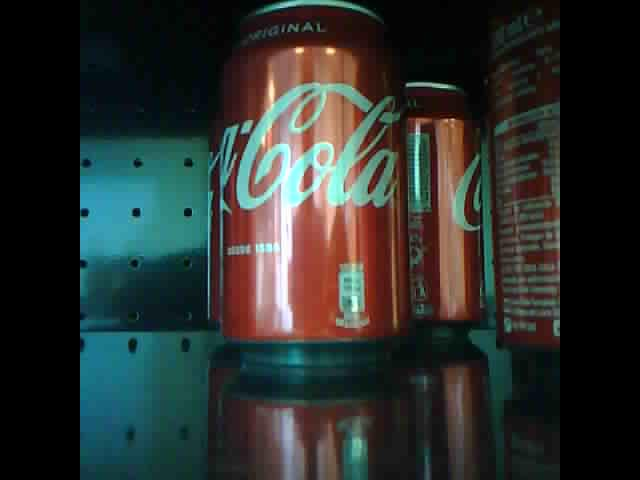coca cola: (215, 1, 398, 368), (492, 6, 560, 359), (406, 76, 479, 344)
